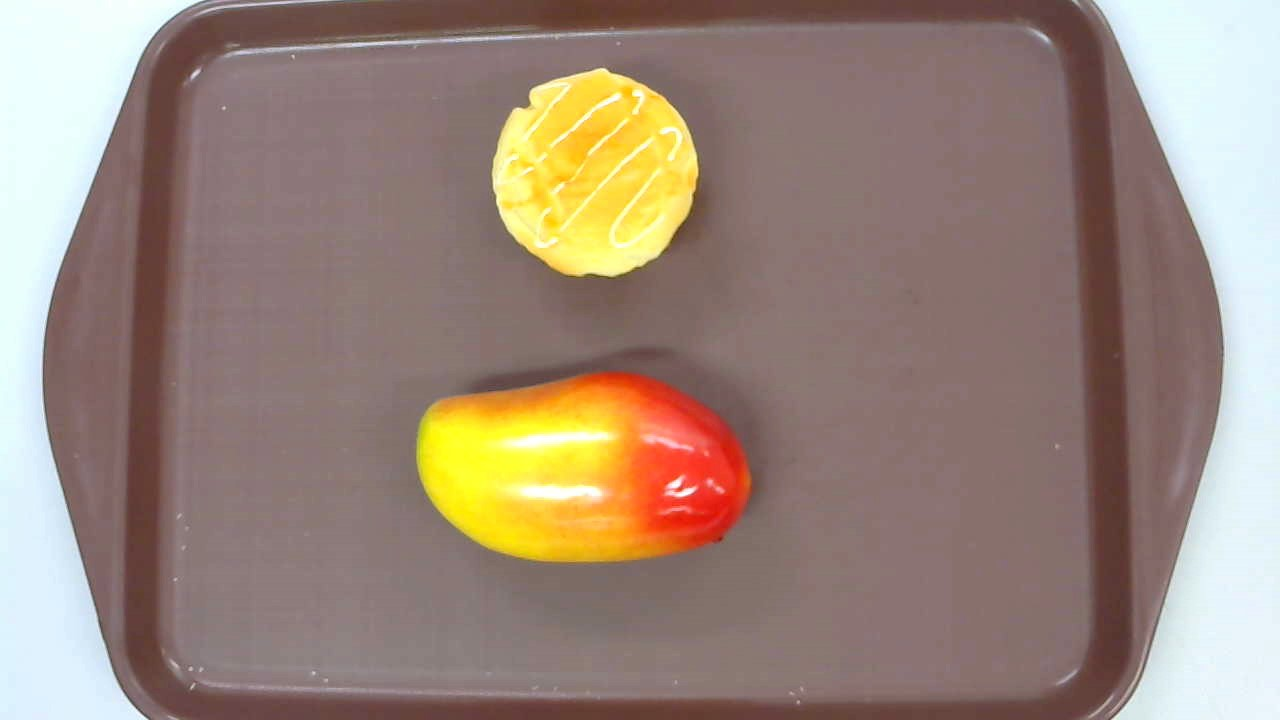cupcake: (491, 67, 701, 278)
red mango: (416, 370, 752, 563)
